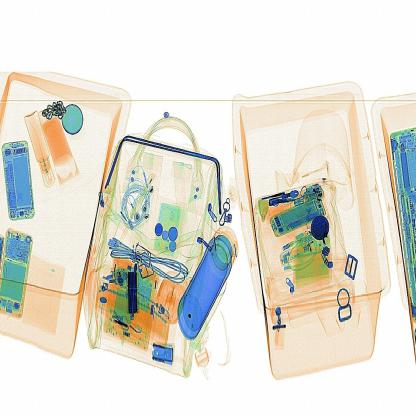scissors: (122, 256, 152, 318)
